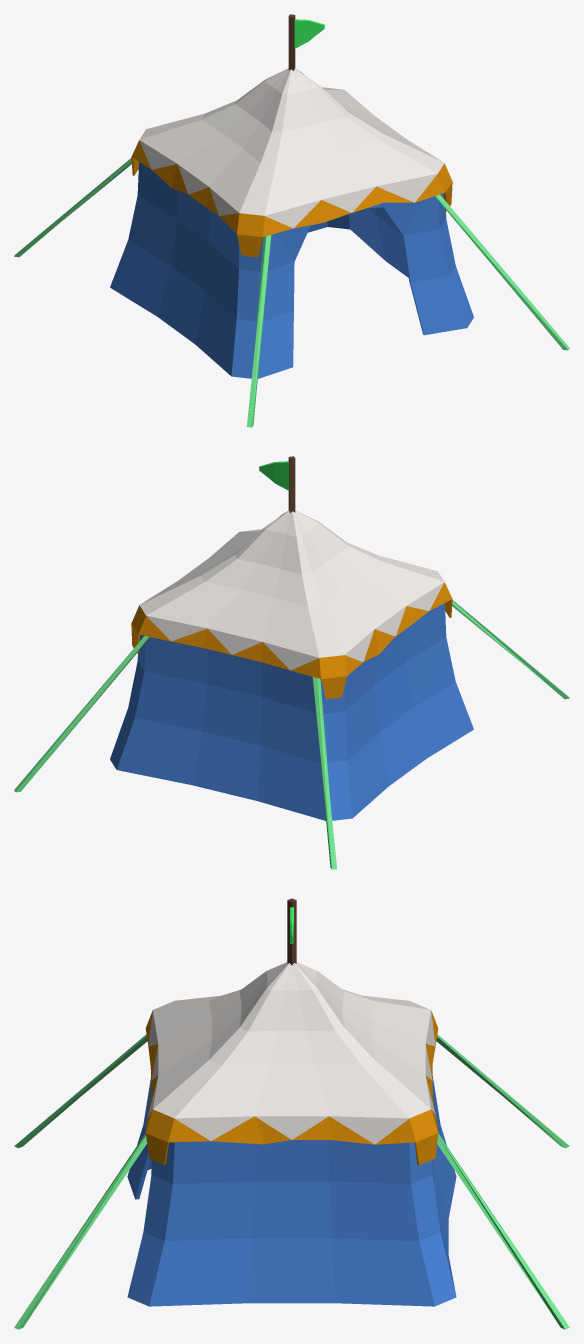
The model's file is Tent_1.fbx.
The picture shows the model from 3 angles, top to bottom: view 1: azimuth 30°, elevation 25°; view 2: azimuth 150°, elevation 25°; view 3: azimuth 270°, elevation 25°; orthographic projection. The views are drawn at different scales.
Visible parts, largest first — view 1: Tent_1; view 2: Tent_1; view 3: Tent_1.
Part boxes in pixels (x1,y1,x2,y2): Tent_1: (14, 14, 569, 427); Tent_1: (14, 456, 569, 869); Tent_1: (14, 898, 569, 1329).
Bounding box in the file's own units: 5.59 × 4.74 × 7.09.
